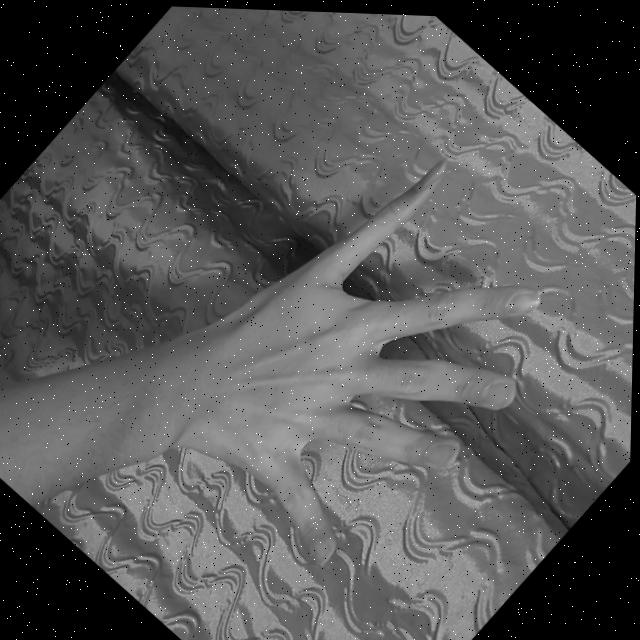hand: (152, 115, 609, 595)
